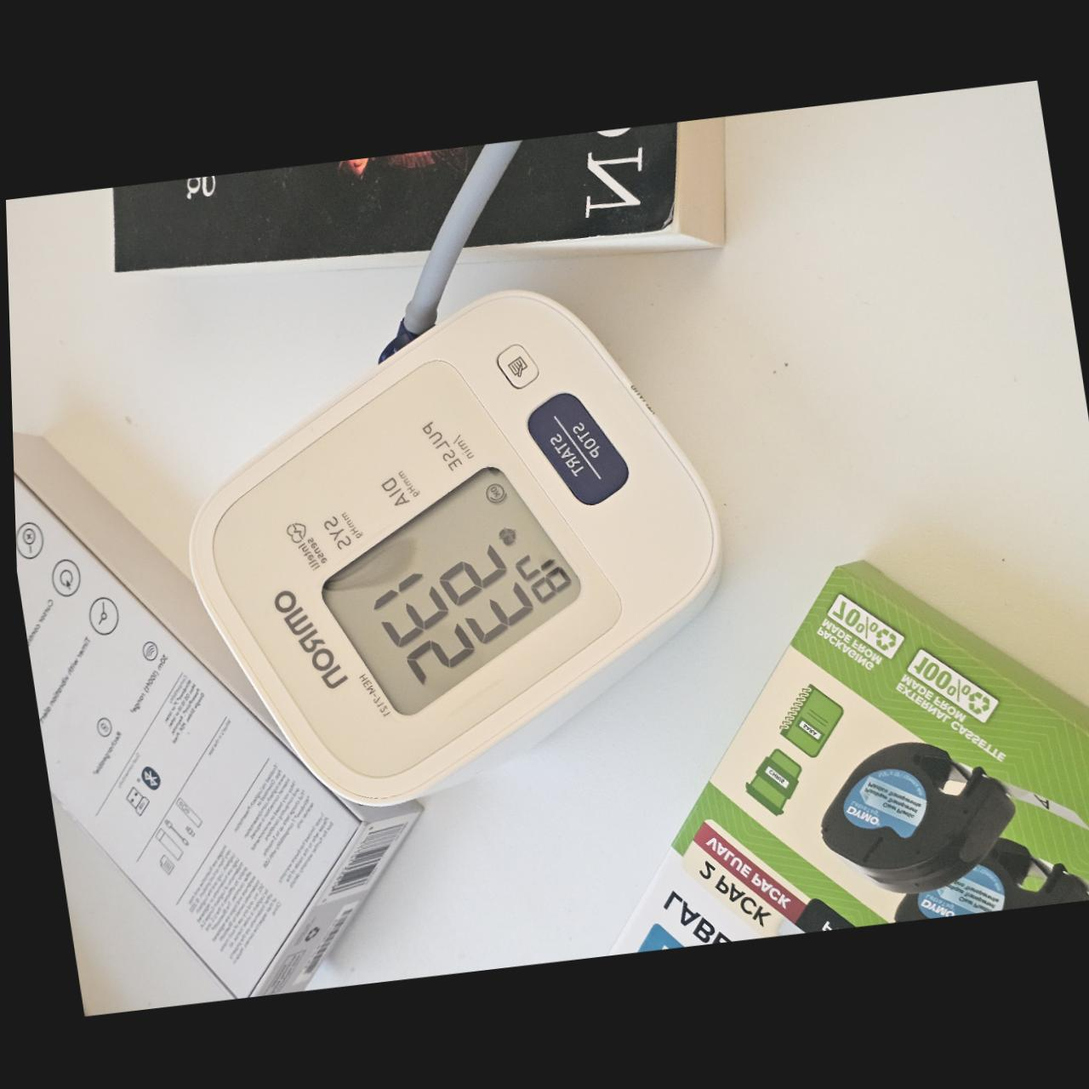blood pressure monitor: (150, 261, 772, 833)
